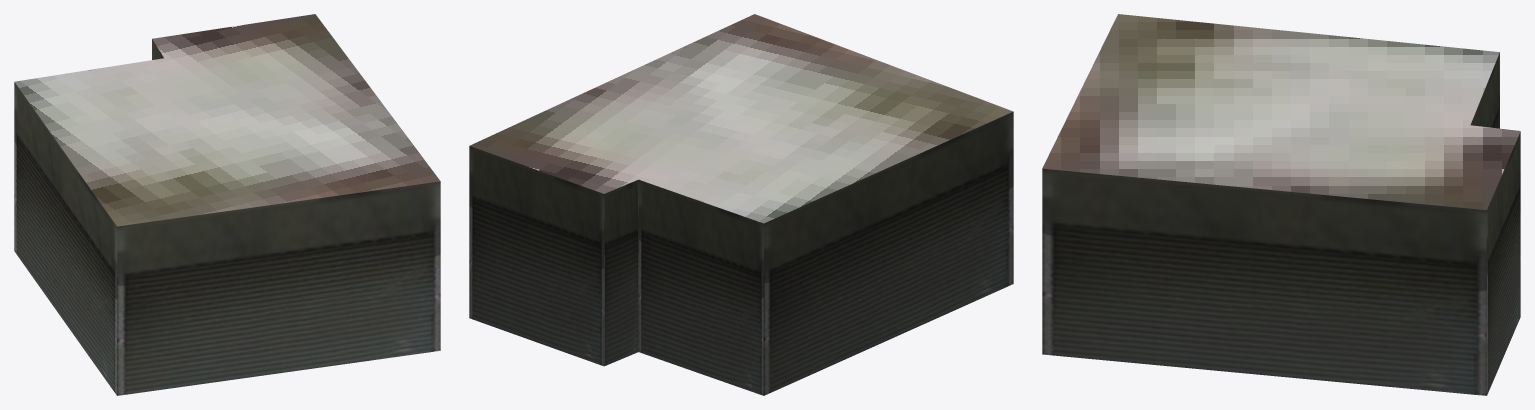
The model's file is T_1T8AT4PKPV.dae.
3 renders of one model, left to right at view 1: azimuth 30°, elevation 25°; view 2: azimuth 150°, elevation 25°; view 3: azimuth 270°, elevation 25°, orthographic. The views are drawn at different scales.
Parts seen in each view (by area): view 1: SketchUp (×3); view 2: SketchUp (×5); view 3: SketchUp (×4).
Part boxes in pixels (left/top/right/bottom): SketchUp (×3): left=14, top=14, right=440, bottom=395; SketchUp (×5): left=469, top=14, right=1013, bottom=395; SketchUp (×4): left=1042, top=14, right=1520, bottom=395.
Size of the model in its own units: 6.09 by 6.28 by 2.69.
Materials: 2 (2 with a texture image).
